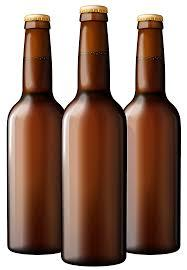Glass bottle: (10, 11, 187, 270)
